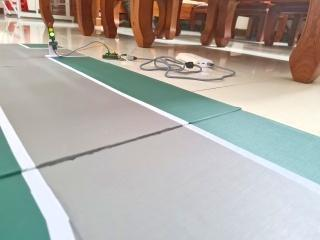green: (45, 20, 62, 46)
